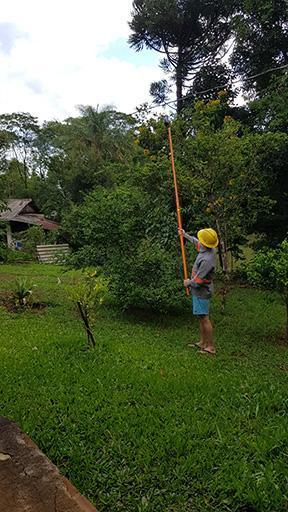helmet: (197, 226, 219, 251)
